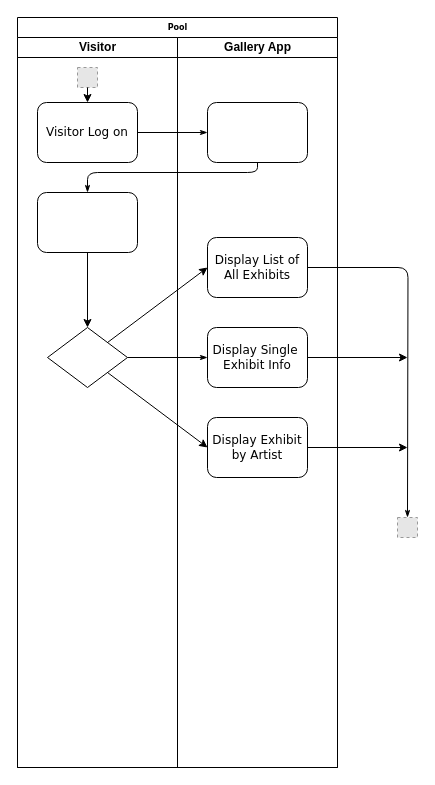
The diagram is 435 pixels wide and 785 high, and some of its shapes have lost their labels. Grey dashed boxes stand in for pictures. Here are the shapes that lost their labels. From the top down, the centre of each, then its label:
the point at 257,132: Provide Option of Views
the point at 87,222: Visitor Chooses Option
